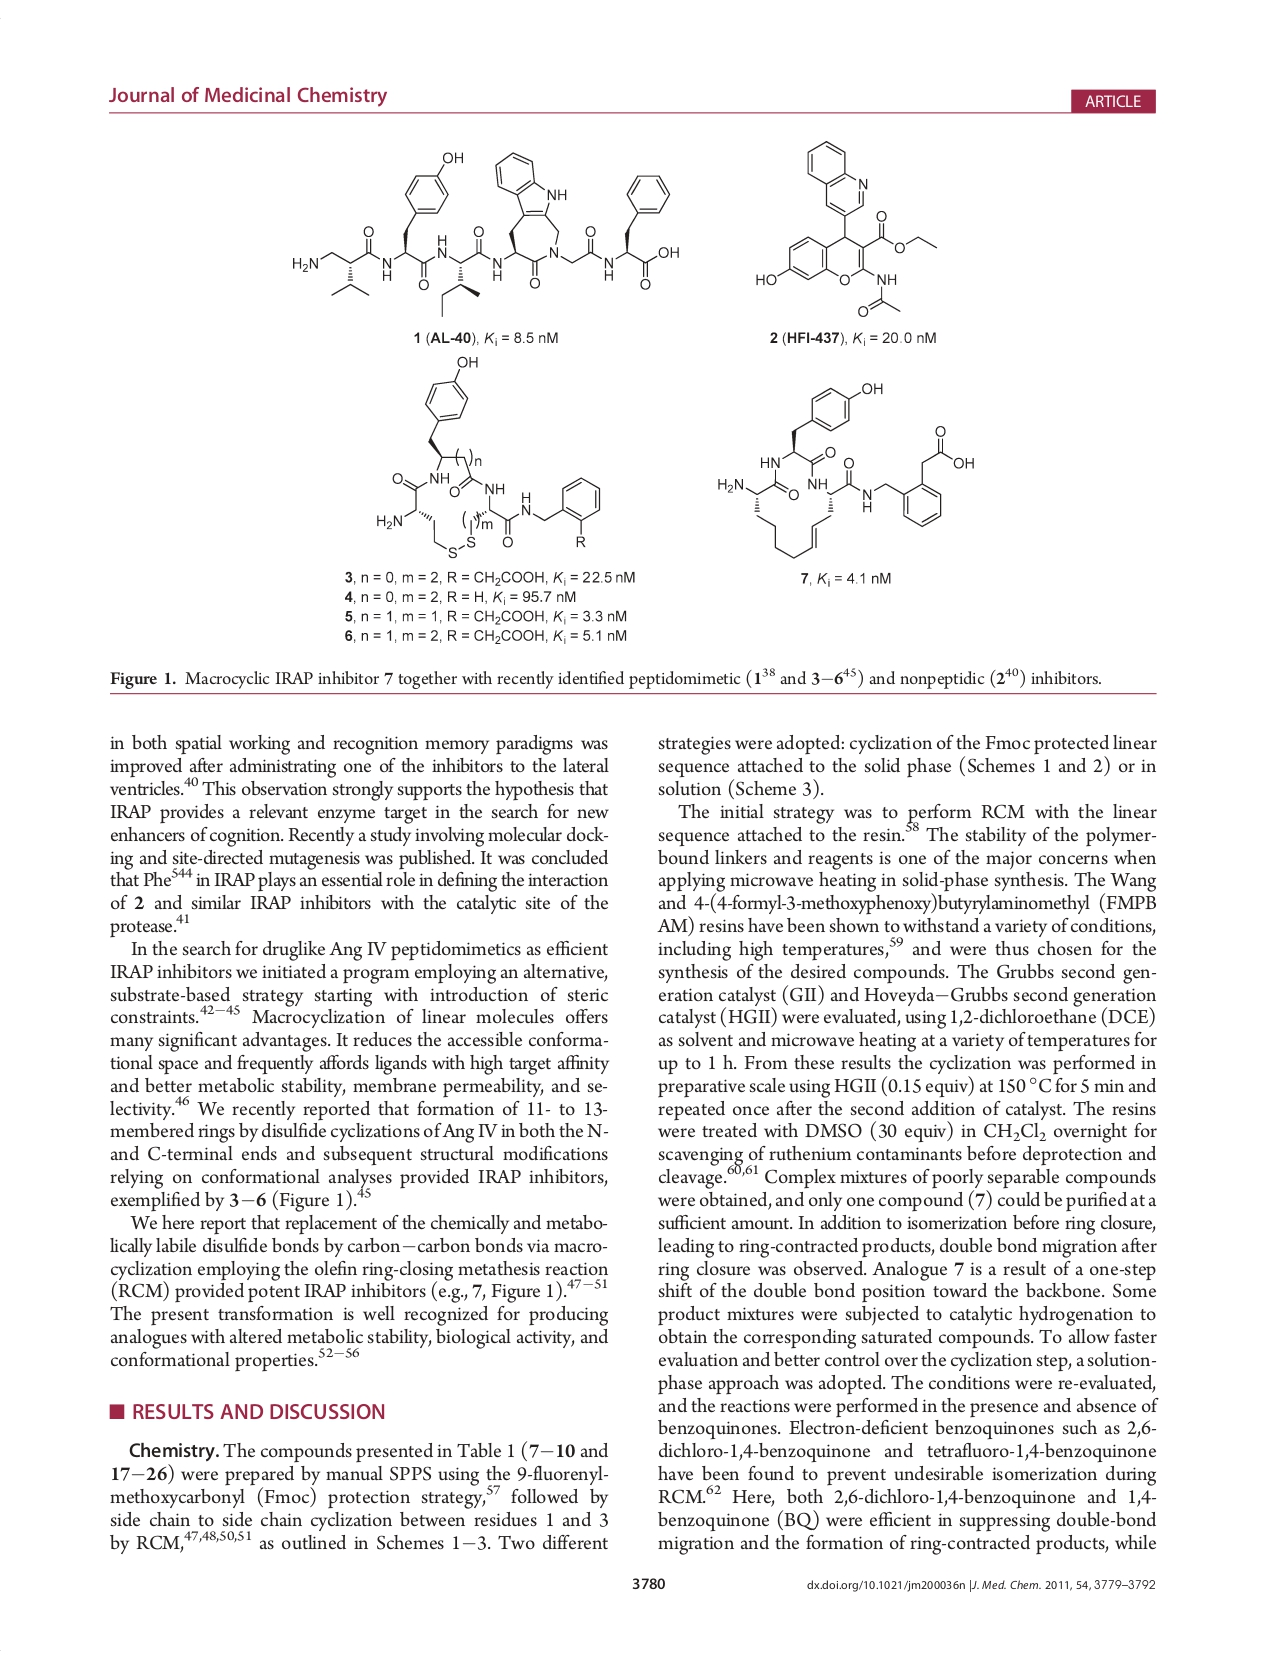exist_molecular: (290, 150, 681, 319), (713, 379, 980, 563), (372, 352, 604, 560), (753, 140, 940, 321)
